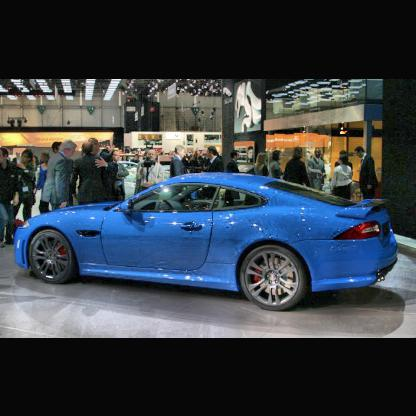Jaguar XK XKR 2012: (14, 172, 400, 312)
